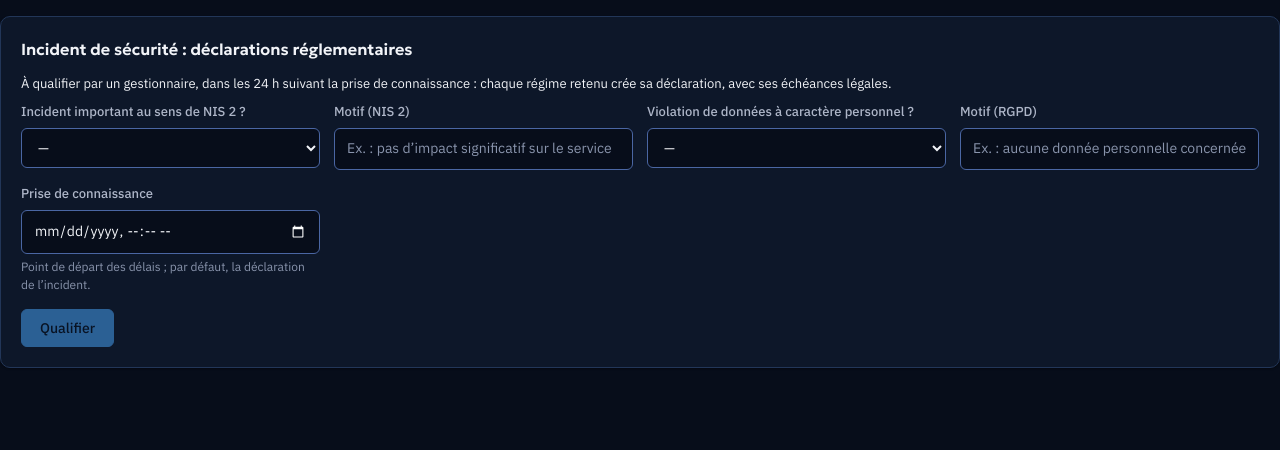
Test case: INC-41, INC-44 : un gestionnaire qualifie l’incident de sécurité, majeur proposé si important
Expected: the button "Qualifier" is disabled, [21,309,114,347]
Select "Oui : déclarer à l’ANSSI" in the dropdown named "NIS 2" at (170,148), box [21,128,320,168]
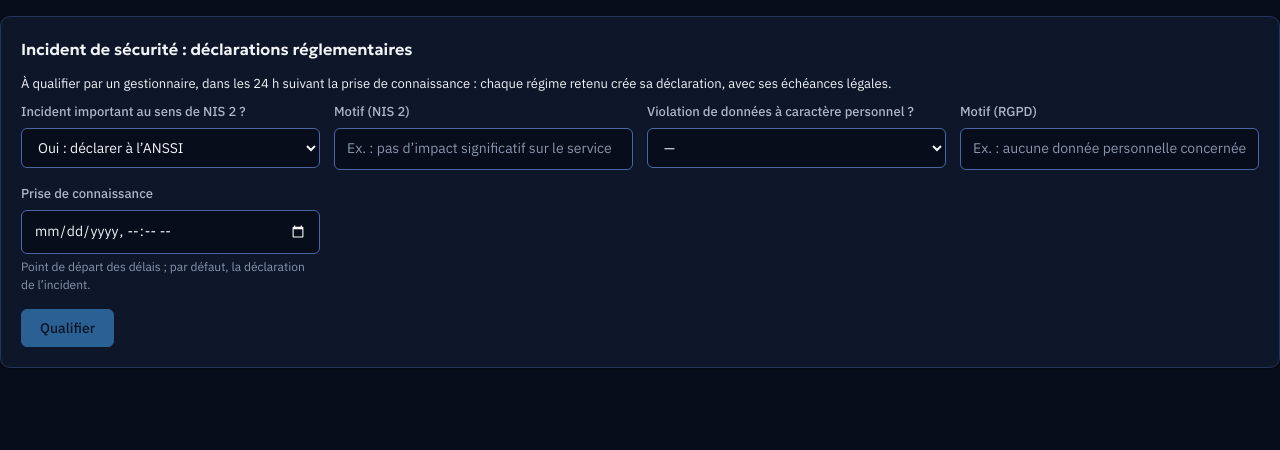
Select "Non" in the dropdown named "RGPD" at (796,148), box [647,128,946,168]
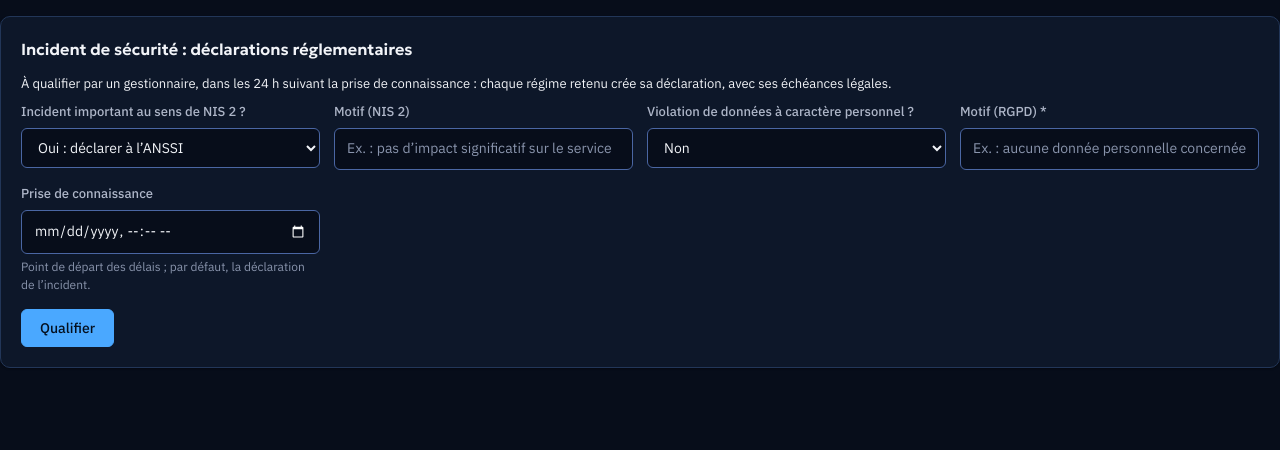
Type "Aucune donnée" into the field with placeholder "Ex. : aucune donnée personnelle concernée" at (1110,149), box [960,128,1259,170]
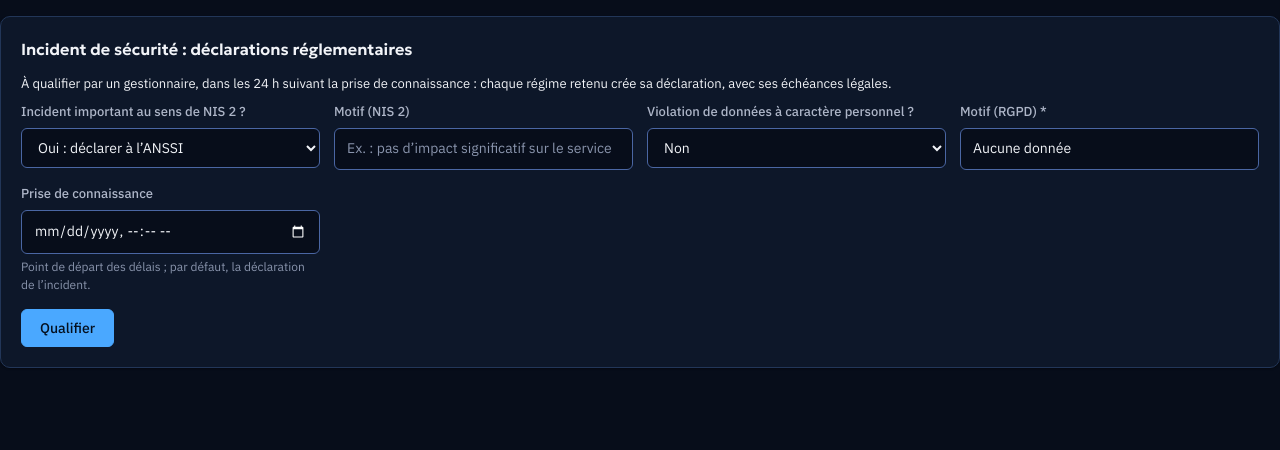
Click the button "Qualifier" at (68,328), box [21,309,114,347]
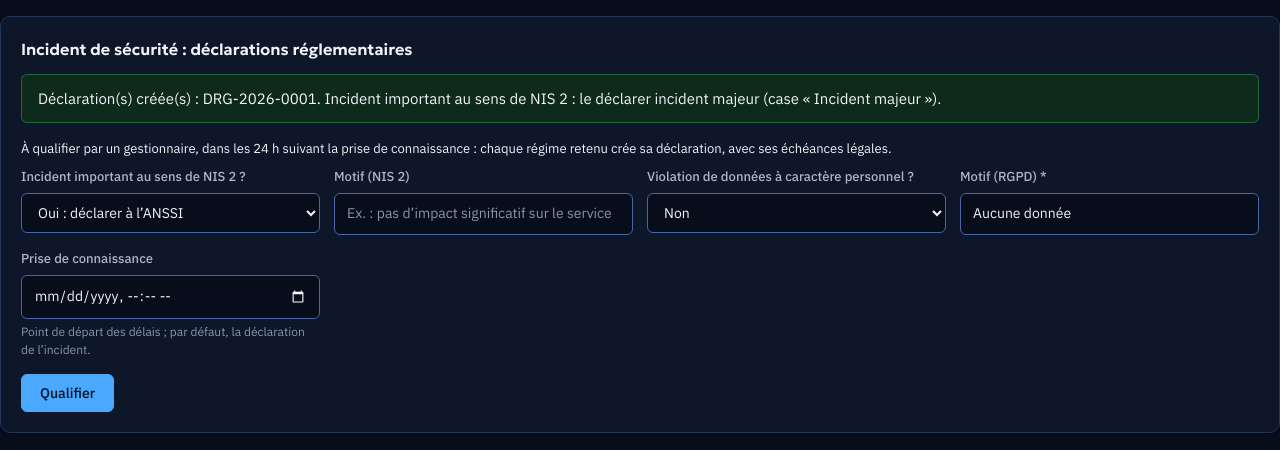
Now the message shows "DRG-2026-0001", box [38,89,941,108]
Now the message shows "incident majeur", box [38,89,941,108]
